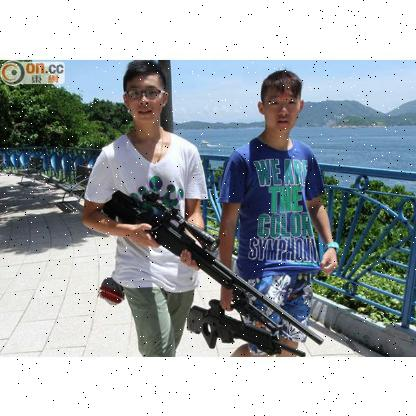gun: (97, 184, 334, 344), (180, 300, 314, 362)
